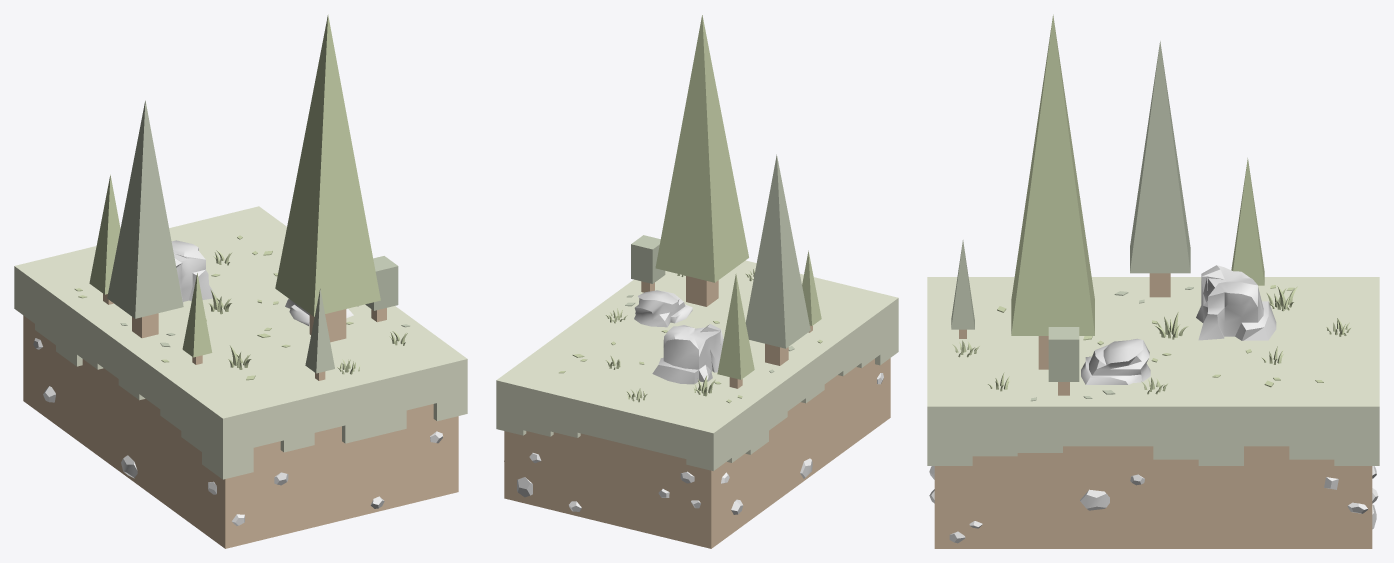
Rendered from plattform_start_7.dae.
The picture shows the model from 3 angles, left to right: view 1: azimuth 30°, elevation 25°; view 2: azimuth 150°, elevation 25°; view 3: azimuth 270°, elevation 25°; orthographic projection. The views are drawn at different scales.
Parts seen in each view (by area): view 1: top, down, treetop.005, treetop.004, treetop.002, rock4, treetop.001, treetop, treetop.003, trunk.005, trunk.004; view 2: top, down, treetop.005, treetop.004, rock4, treetop.002, rock3, treetop.003, trunk.005, treetop.001; view 3: top, down, treetop.005, treetop.004, rock4, rock3, treetop.002, treetop.003, treetop, trunk.004.
Boxes of the visible parts, x1=… form: top: x1=14, y1=206, x2=467, y2=479; down: x1=23, y1=315, x2=458, y2=548; treetop.005: x1=275, y1=14, x2=380, y2=316; treetop.004: x1=107, y1=100, x2=183, y2=318; treetop.002: x1=89, y1=174, x2=120, y2=294; rock4: x1=171, y1=240, x2=216, y2=309; treetop.001: x1=182, y1=273, x2=212, y2=357; treetop: x1=305, y1=289, x2=334, y2=373; treetop.003: x1=365, y1=256, x2=398, y2=310; trunk.005: x1=309, y1=309, x2=346, y2=342; trunk.004: x1=132, y1=313, x2=158, y2=338; top: x1=496, y1=260, x2=898, y2=470; down: x1=504, y1=358, x2=890, y2=548; treetop.005: x1=655, y1=15, x2=748, y2=282; treetop.004: x1=745, y1=154, x2=810, y2=348; rock4: x1=652, y1=324, x2=723, y2=384; treetop.002: x1=717, y1=273, x2=754, y2=379; rock3: x1=634, y1=290, x2=692, y2=327; treetop.003: x1=631, y1=235, x2=665, y2=283; trunk.005: x1=686, y1=276, x2=718, y2=306; treetop.001: x1=802, y1=250, x2=821, y2=325; top: x1=927, y1=277, x2=1379, y2=465; down: x1=934, y1=446, x2=1372, y2=548; treetop.005: x1=1011, y1=14, x2=1094, y2=335; treetop.004: x1=1130, y1=41, x2=1190, y2=273; rock4: x1=1196, y1=265, x2=1276, y2=340; rock3: x1=1081, y1=338, x2=1150, y2=384; treetop.002: x1=1231, y1=158, x2=1264, y2=285; treetop.003: x1=1048, y1=327, x2=1079, y2=381; treetop: x1=951, y1=240, x2=974, y2=329; trunk.004: x1=1149, y1=273, x2=1170, y2=297.
Size of the model in its own units: 210 by 310 by 374.
